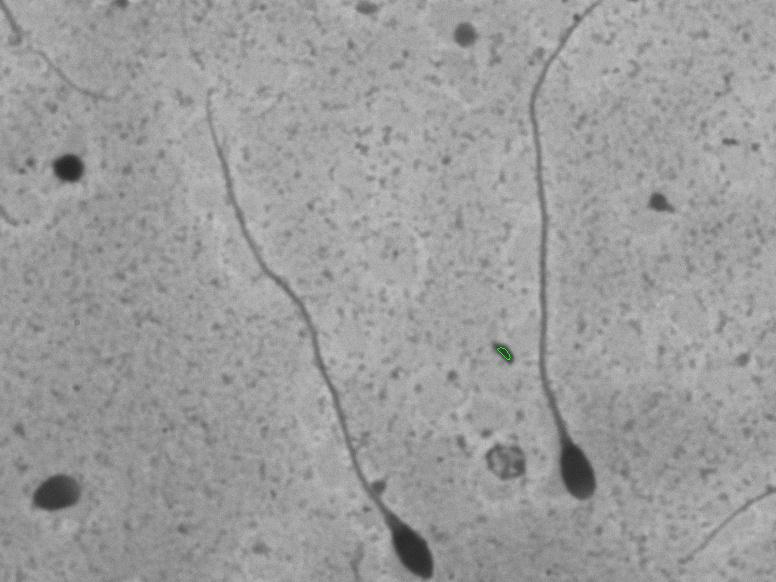Abnormal: (177, 77, 450, 581)
Normal: (529, 20, 631, 516)
